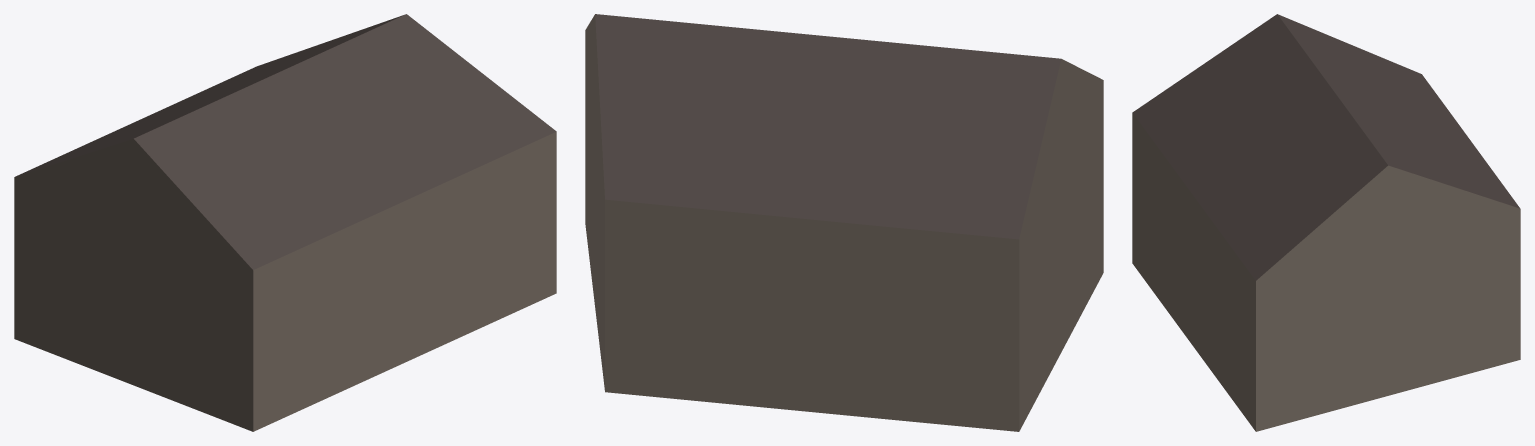
The picture shows the model from 3 angles, left to right: view 1: azimuth 30°, elevation 25°; view 2: azimuth 150°, elevation 25°; view 3: azimuth 270°, elevation 25°; orthographic projection. The views are drawn at different scales.
Parts seen in each view (by area): view 1: HP-w1198664267; view 2: HP-w1198664267; view 3: HP-w1198664267.
Boxes of the visible parts, x1,y1,x2,y2 form: HP-w1198664267: (14, 14, 556, 431); HP-w1198664267: (585, 14, 1103, 431); HP-w1198664267: (1132, 14, 1520, 431).
Size of the model in its own units: 17.61 by 9.15 by 13.97.
